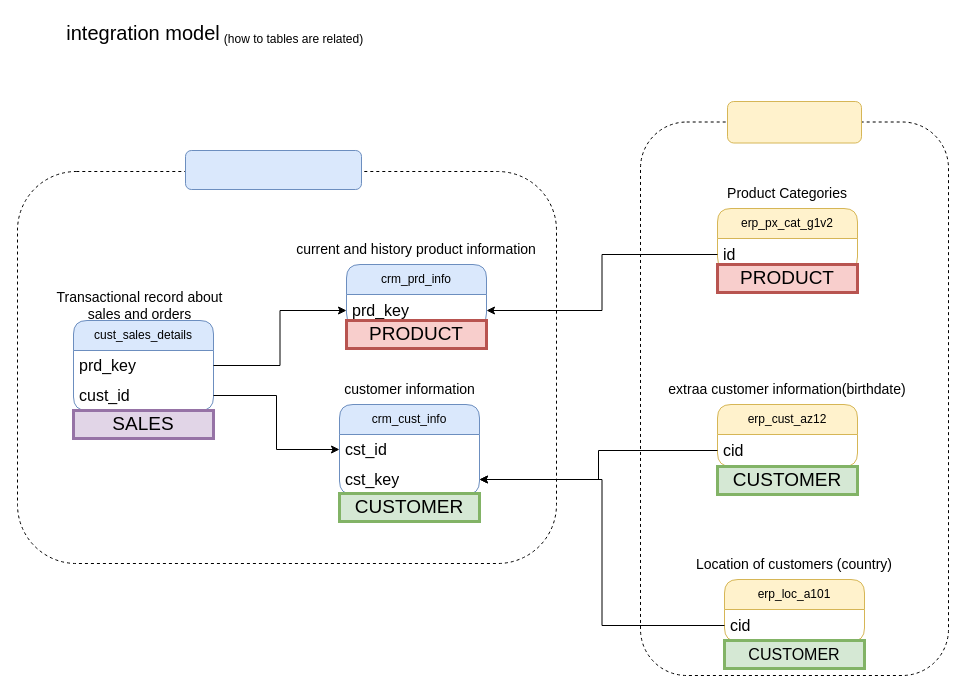
Some shapes in this 966 by 693 pixel diagram are drawn without their labels. The shapes that lost their labels are listed below. From the top down, each one's centre as x and y in pixels, then its label:
At (x=794, y=121): "ERP".
At (x=273, y=170): "CRM".
